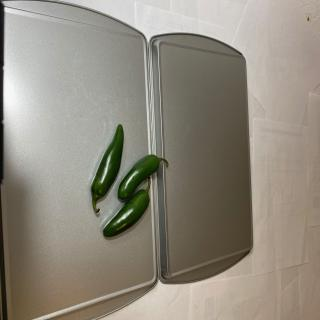Chilli: (90, 123, 124, 213), (102, 176, 151, 238), (117, 154, 169, 200)
